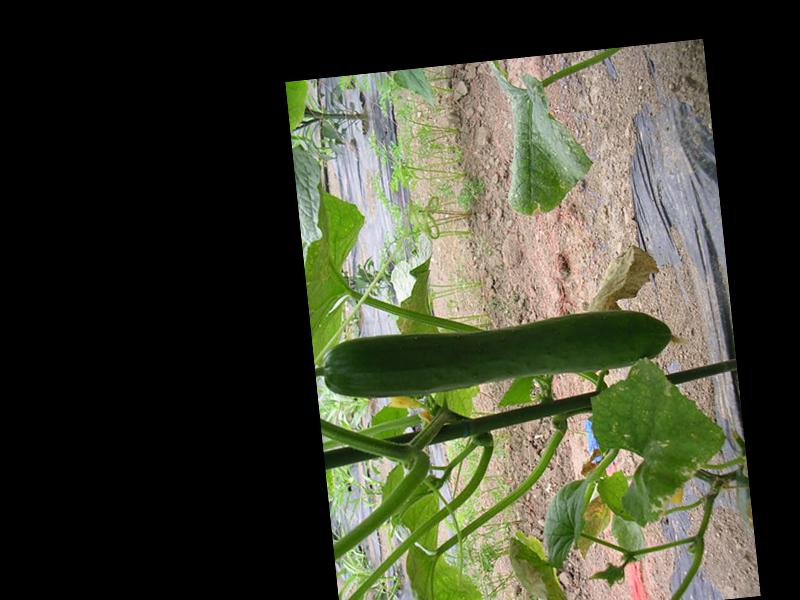Cucumber: (320, 303, 684, 405)
